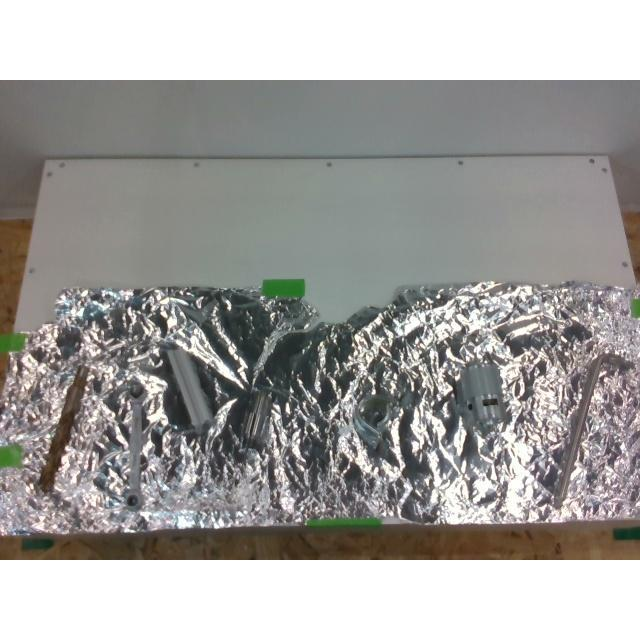AllenKey: (553, 352, 625, 508)
Axis2: (244, 390, 272, 450)
Drill: (36, 365, 88, 493)
F20_20_G: (168, 348, 212, 432)
Housing: (353, 390, 413, 454)
Motor2: (456, 350, 504, 430)
Wrench: (125, 378, 144, 509)
